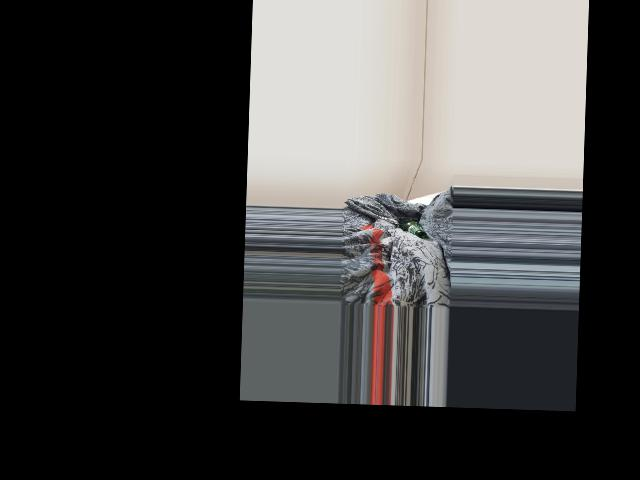beer: (397, 218, 427, 238)
